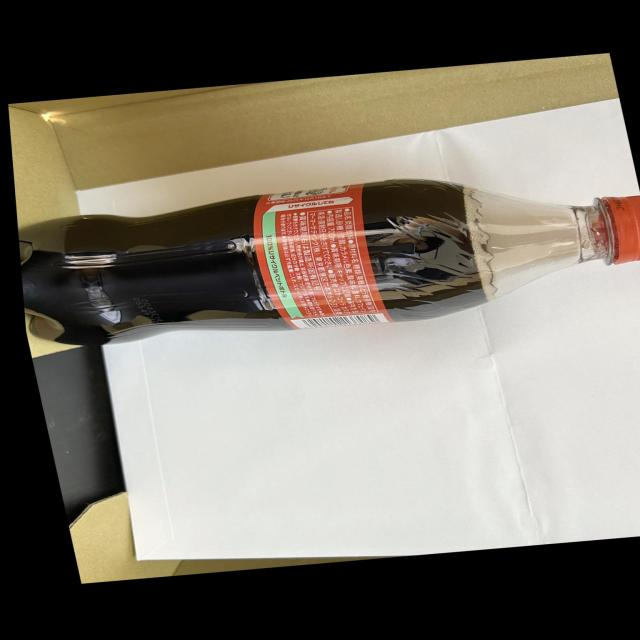high: (21, 179, 640, 345)
